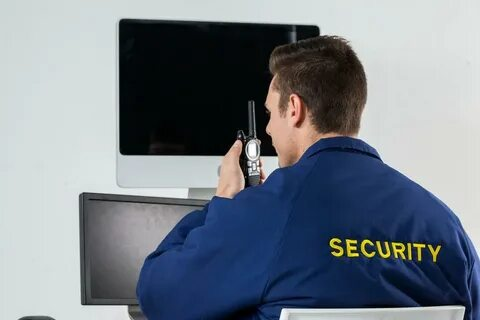awake: (135, 33, 480, 319)
